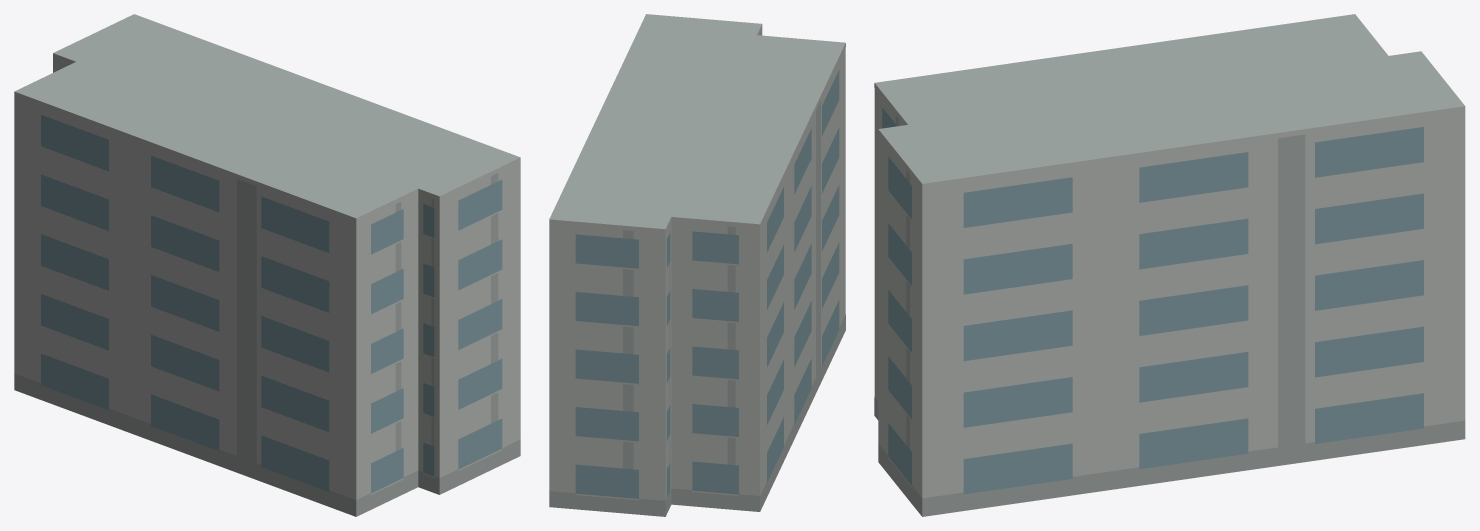
The model's file is residential-40a25c6d-8b19-46ef-8c23-fcff9ef1449b.glb.
The picture shows the model from 3 angles, left to right: view 1: azimuth 30°, elevation 25°; view 2: azimuth 150°, elevation 25°; view 3: azimuth 270°, elevation 25°; orthographic projection. The views are drawn at different scales.
Parts seen in each view (by area): view 1: residential-40a25c6d-8b19-46ef-8c23-fcff9ef1449b.tmp; view 2: residential-40a25c6d-8b19-46ef-8c23-fcff9ef1449b.tmp; view 3: residential-40a25c6d-8b19-46ef-8c23-fcff9ef1449b.tmp.
Boxes of the visible parts, left/top/right/bottom form: residential-40a25c6d-8b19-46ef-8c23-fcff9ef1449b.tmp: left=14, top=14, right=520, bottom=516; residential-40a25c6d-8b19-46ef-8c23-fcff9ef1449b.tmp: left=549, top=14, right=845, bottom=516; residential-40a25c6d-8b19-46ef-8c23-fcff9ef1449b.tmp: left=874, top=14, right=1465, bottom=516.
Size of the model in its own units: 16.7 by 15.25 by 24.54.
